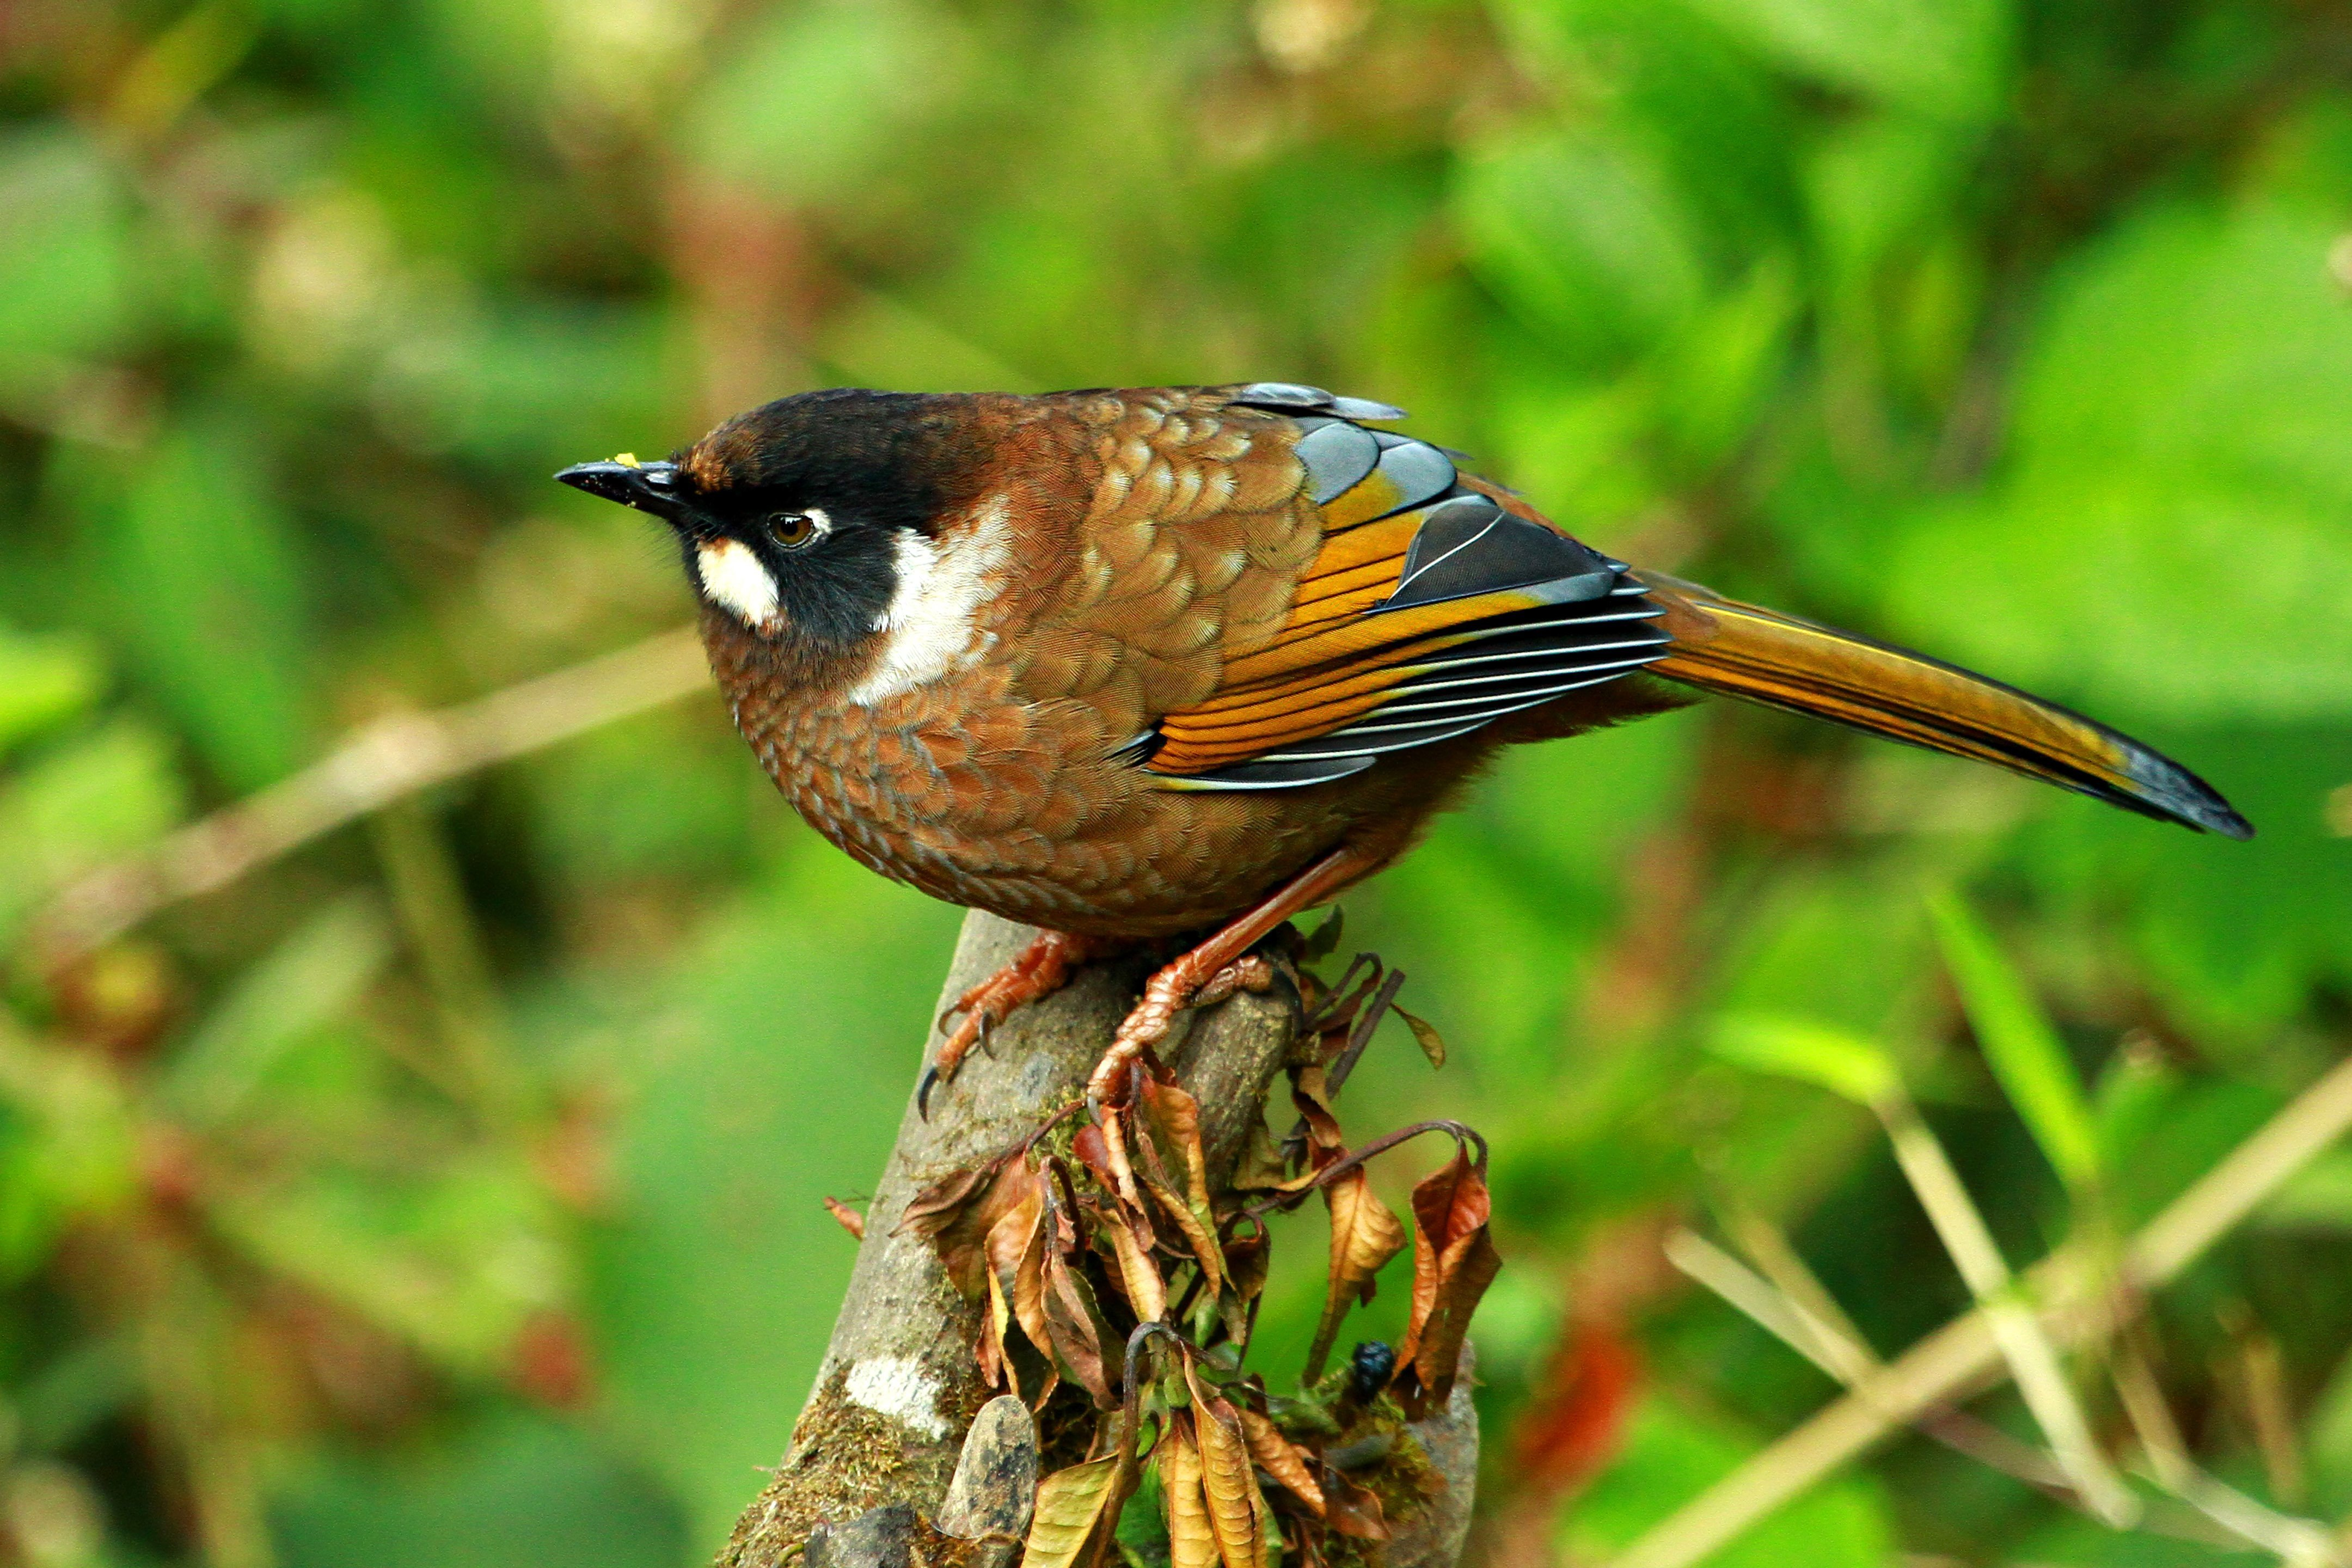bird: (513, 315, 2282, 1143)
